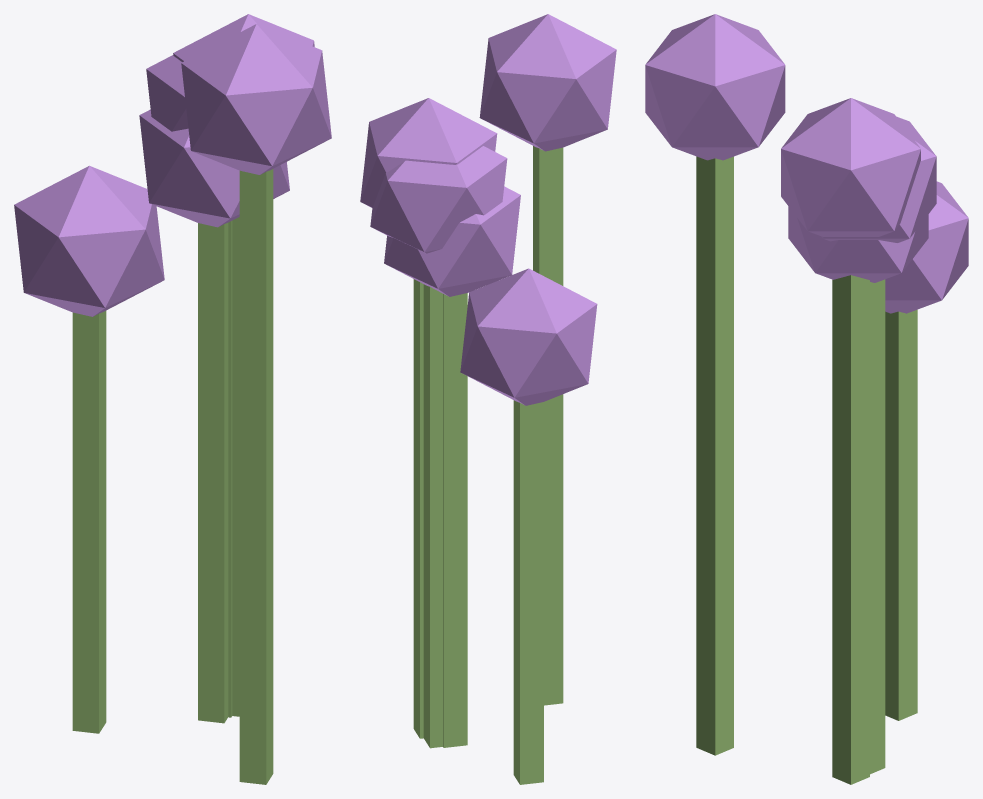
File: SM_Flowers_Purple.fbx
3 views of the same model, side by side, from view 1: azimuth 30°, elevation 25°; view 2: azimuth 150°, elevation 25°; view 3: azimuth 270°, elevation 25° (orthographic). The views are drawn at different scales.
Parts seen in each view (by area): view 1: SM_Flowers_Purple; view 2: SM_Flowers_Purple; view 3: SM_Flowers_Purple.
Part boxes in pixels (bbox=[...]): SM_Flowers_Purple: bbox=[14, 14, 331, 784]; SM_Flowers_Purple: bbox=[360, 14, 616, 784]; SM_Flowers_Purple: bbox=[645, 14, 968, 784].
Size of the model in its own units: 0.1268 by 0.3438 by 0.1374.
